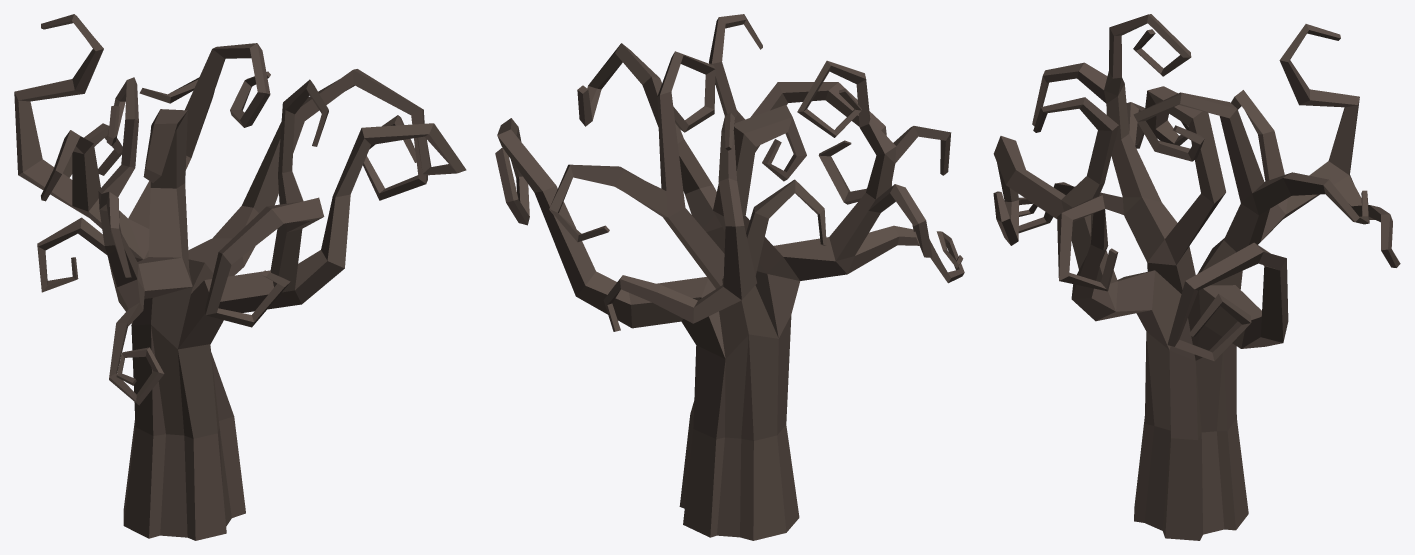
The model's file is Tree_Type0_02.glb.
The picture shows the model from 3 angles, left to right: view 1: azimuth 30°, elevation 25°; view 2: azimuth 150°, elevation 25°; view 3: azimuth 270°, elevation 25°; orthographic projection. The views are drawn at different scales.
Parts seen in each view (by area): view 1: Tree Type0 02 Model; view 2: Tree Type0 02 Model; view 3: Tree Type0 02 Model.
Part boxes in pixels (<box>): Tree Type0 02 Model: <box>14,14,466,540</box>; Tree Type0 02 Model: <box>495,14,964,540</box>; Tree Type0 02 Model: <box>993,14,1400,540</box>.
Bounding box in the file's own units: 3.5 × 3.81 × 3.02.
Materials: 1 (1 with a texture image).
